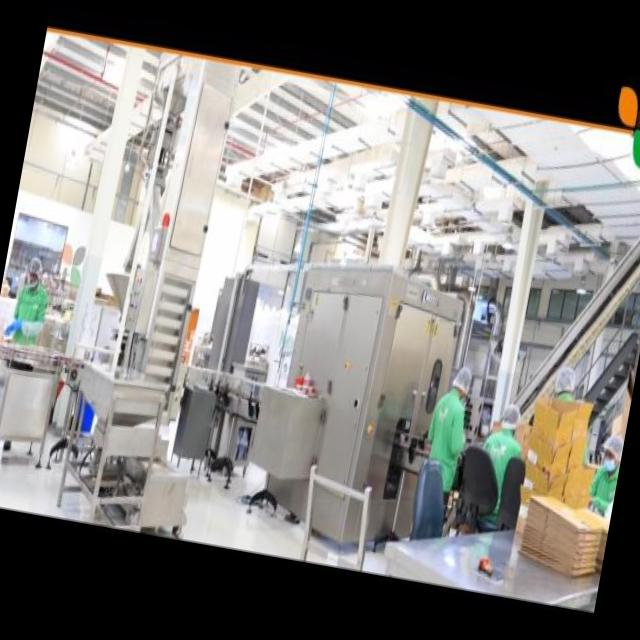hairnet: (554, 364, 580, 395), (451, 365, 474, 394), (499, 402, 522, 428), (604, 434, 624, 462), (28, 256, 45, 278)
